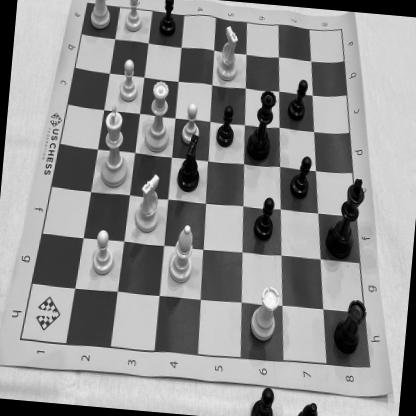bishop: (165, 220, 198, 288)
king: (321, 175, 368, 264), (96, 101, 136, 190)
knight: (171, 132, 205, 194), (134, 169, 165, 236), (214, 20, 243, 84)
pawn: (88, 225, 119, 278), (250, 192, 277, 245), (288, 154, 314, 202), (116, 57, 142, 104), (177, 100, 202, 148), (286, 76, 310, 124), (214, 104, 237, 152), (157, 0, 181, 43), (121, 0, 147, 35)
queen: (245, 86, 278, 164), (143, 77, 176, 155)
rook: (246, 280, 283, 346), (332, 295, 369, 357), (86, 0, 117, 34)
